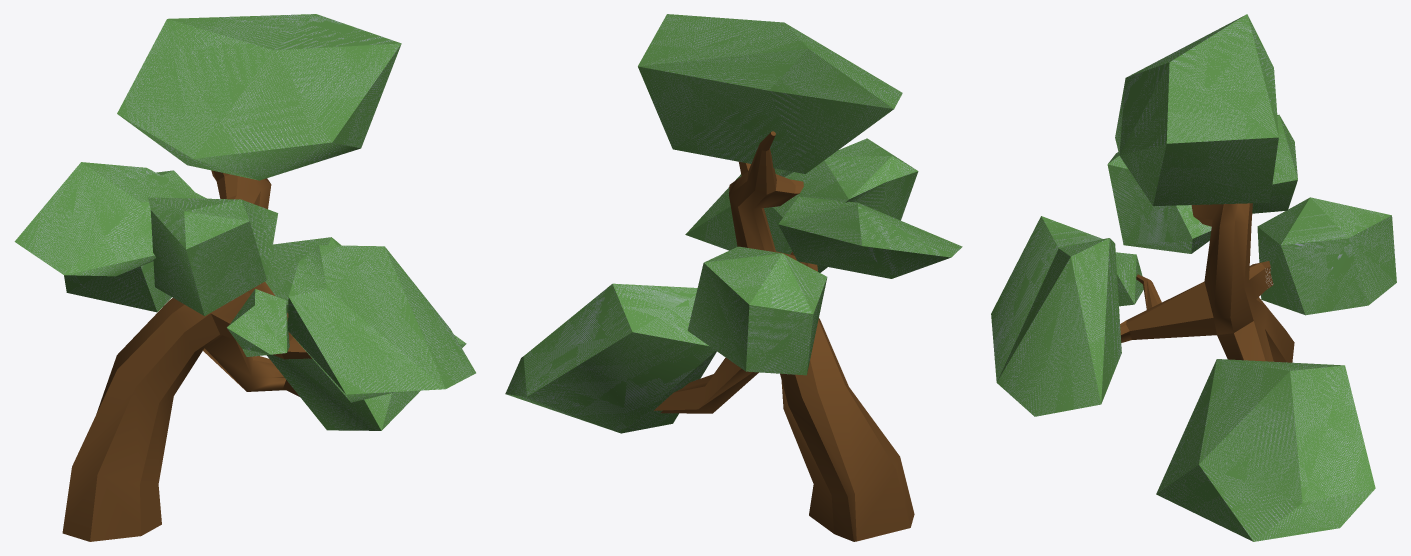
The model's file is Tree_Asia_04.fbx.
The picture shows the model from 3 angles, left to right: view 1: azimuth 30°, elevation 25°; view 2: azimuth 150°, elevation 25°; view 3: azimuth 270°, elevation 25°; orthographic projection. The views are drawn at different scales.
Parts seen in each view (by area): view 1: Model; view 2: Model; view 3: Model.
Part boxes in pixels (box(x1,y1,x2,y2)): Model: box(14, 14, 475, 541); Model: box(505, 14, 962, 541); Model: box(991, 14, 1396, 541).
Bounding box in the file's own units: 466 × 487 × 374.
